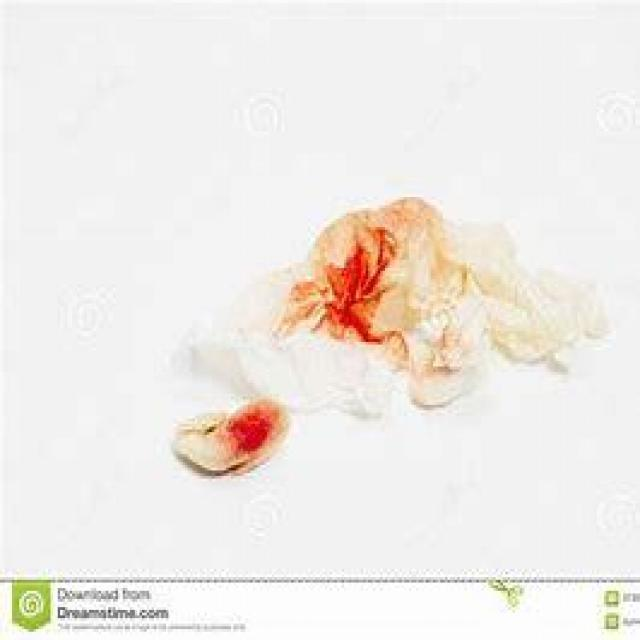wound: (283, 172, 412, 368), (199, 374, 298, 488)
